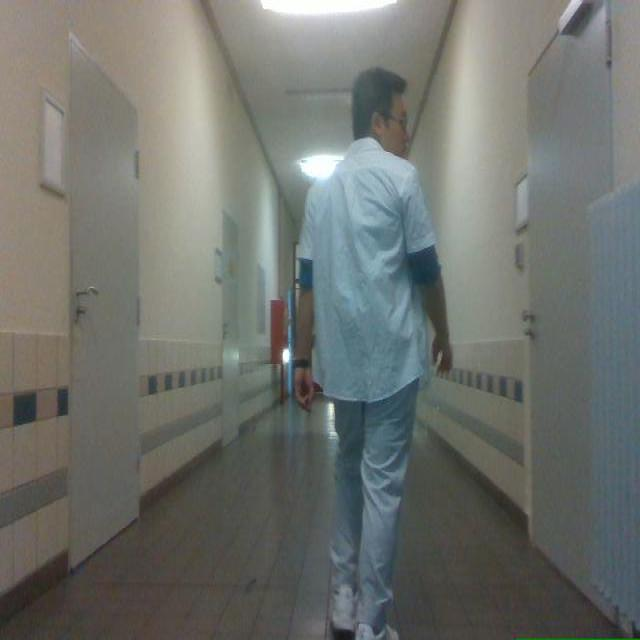humans: (294, 68, 451, 639)
